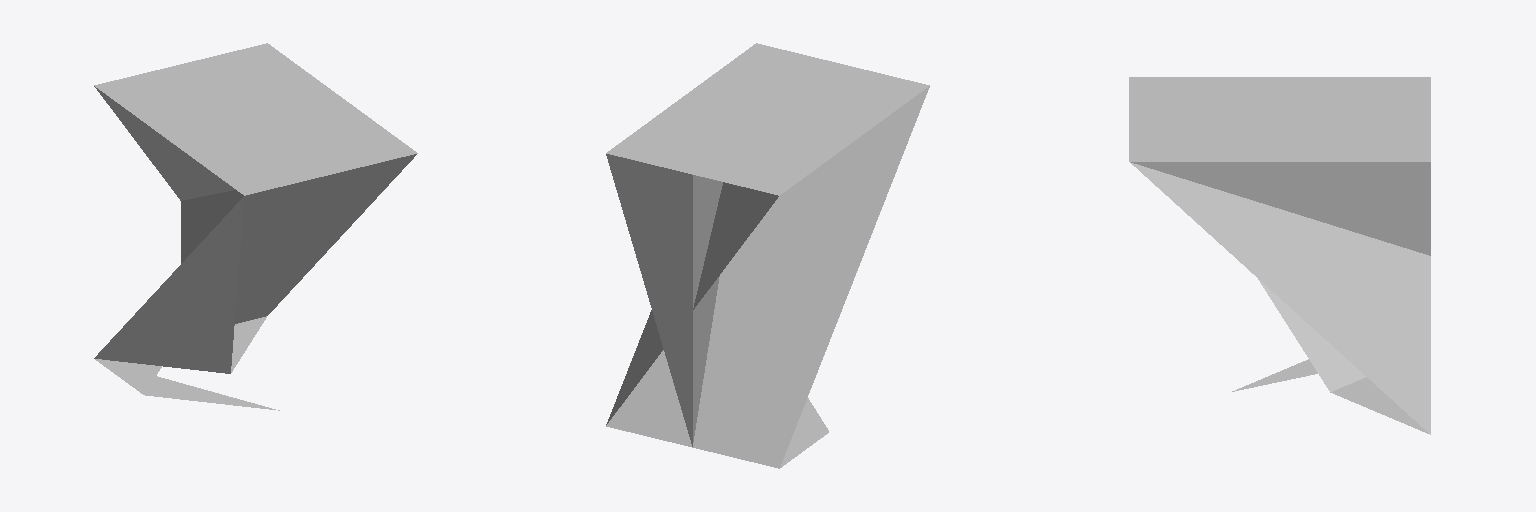
Rendered from Shower Stall Toiletries 2.obj.
3 renders of one model, left to right at view 1: azimuth 30°, elevation 25°; view 2: azimuth 150°, elevation 25°; view 3: azimuth 270°, elevation 25°, orthographic.
Size of the model in its own units: 2 by 3 by 3.